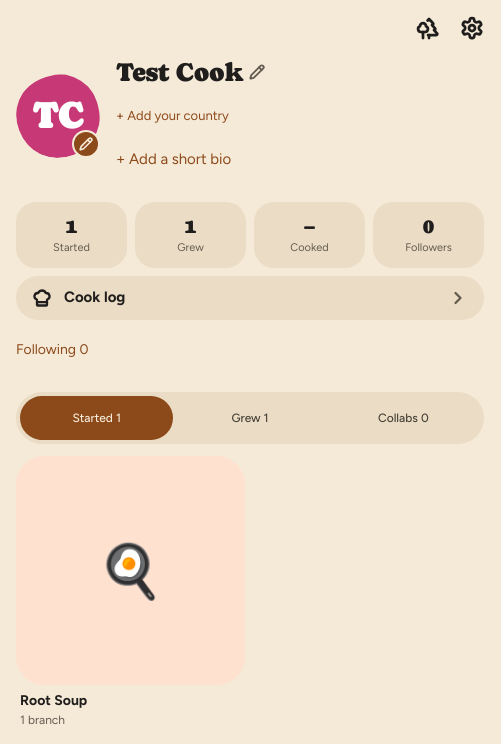
Test: OwnProfile Organic layout (RL-095) › splits Started and Grew with counts, a branch of someone else under Grew, and the right meta
Expected: the link "🍳 Root Soup 1 branch" is shown, 16,456 -> 245,728
Expected: the text "My Take" is not shown
Click the radio button labelled "Grew 1": (250, 418) 173,396 -> 327,440
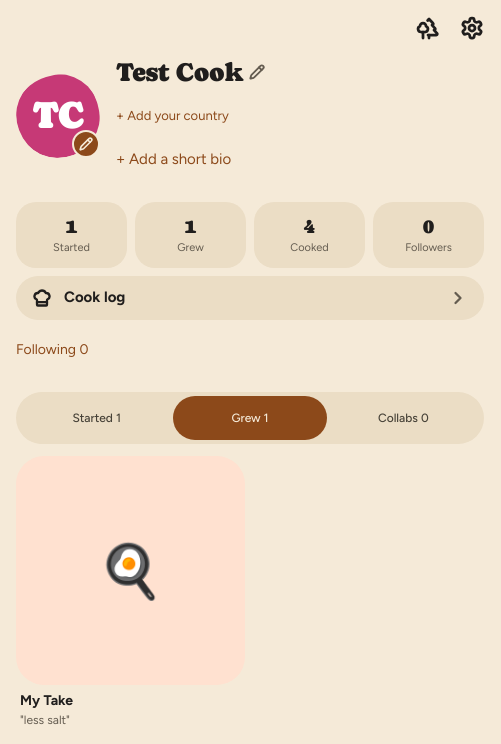
Now the link "🍳 My Take \"less salt\"" shows "\"less salt\"", box 16,456 -> 245,728
Now the link "Root Soup" is gone
